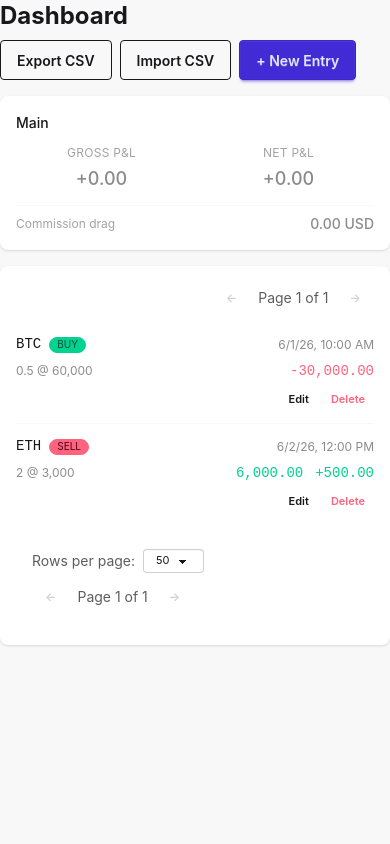
Test: DashboardPage — modal interactions › clicking an Edit button opens the edit modal
Click the button "Edit" below "-30,000.00": (299, 399) [280,387,318,411]
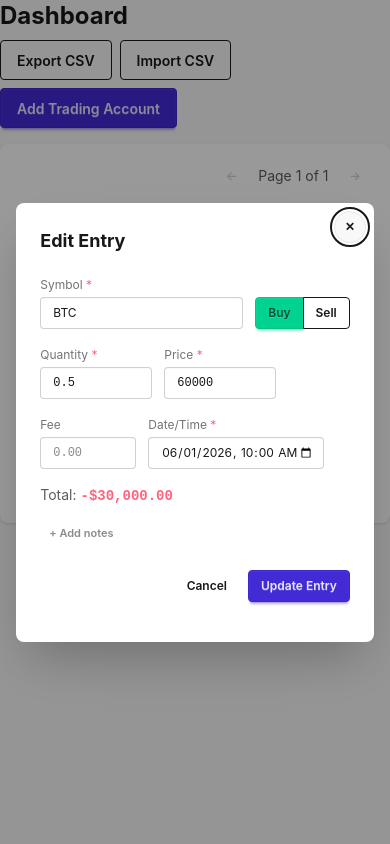
Result: the heading "Edit Entry" is shown at [40,230,126,250]
